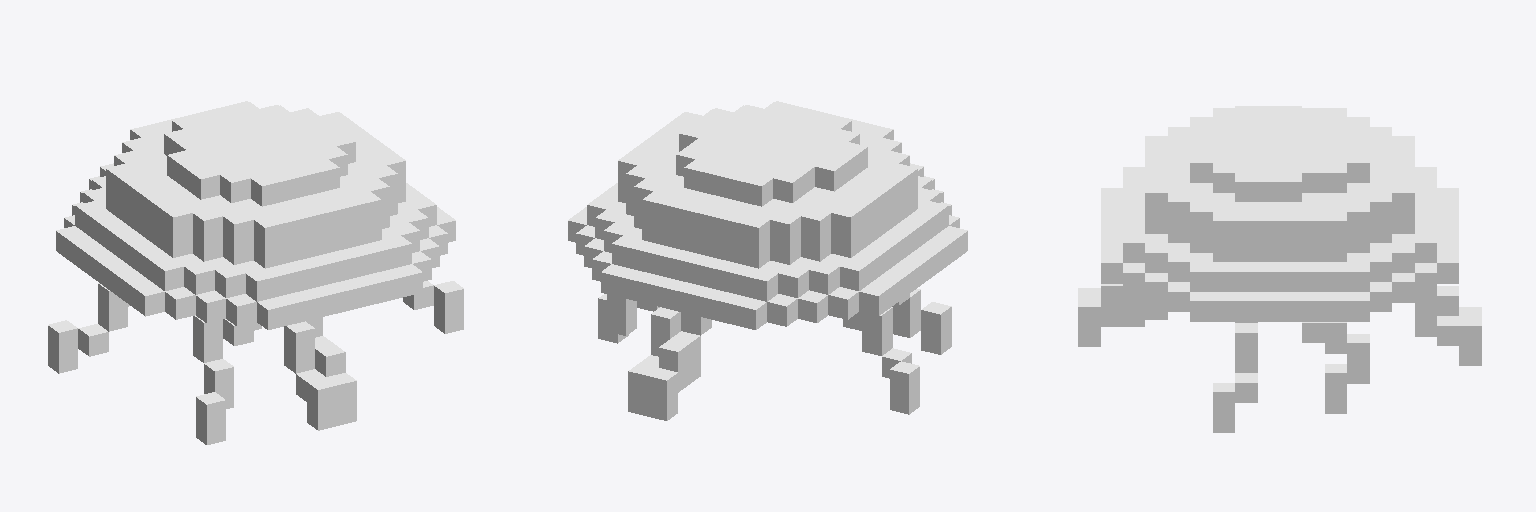
File: jellyfish02.obj
3 views of the same model, side by side, from view 1: azimuth 30°, elevation 25°; view 2: azimuth 150°, elevation 25°; view 3: azimuth 270°, elevation 25° (orthographic).
Visible parts, largest first — view 1: object 1; view 2: object 1; view 3: object 1.
Boxes of the visible parts, <box> form: object 1: <box>48,101,463,444</box>; object 1: <box>568,101,967,420</box>; object 1: <box>1078,106,1481,432</box>.
Bounding box in the file's own units: 1.8 × 1.1 × 1.8.